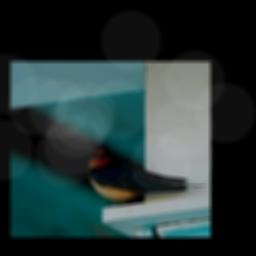Swallow: (84, 139, 208, 205)
